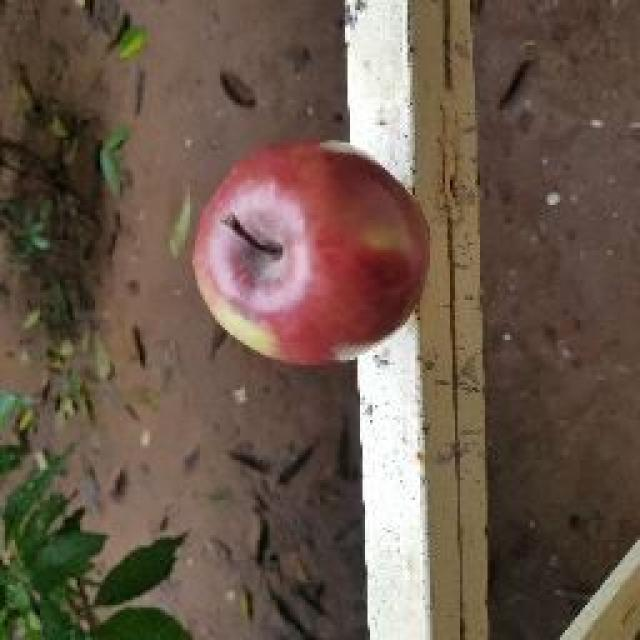Good_Apple: (190, 140, 430, 368)
